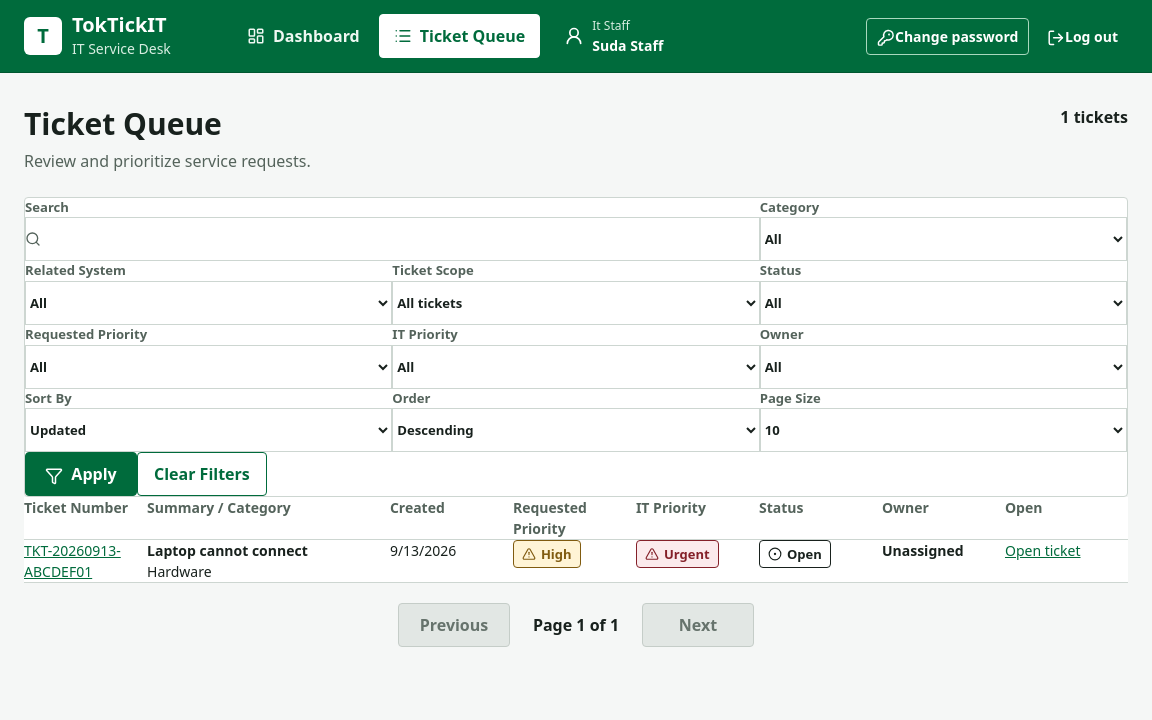
Test: Staff Ticket Queue › renders desktop columns and opens a protected detail destination
Expected: the text "Unassigned" is shown, [882, 541, 964, 560]
Expected: the element named "Status: Open" is shown, [759, 540, 831, 568]
Click the link "Open ticket".
click(1043, 551)  # box [1005, 541, 1080, 560]
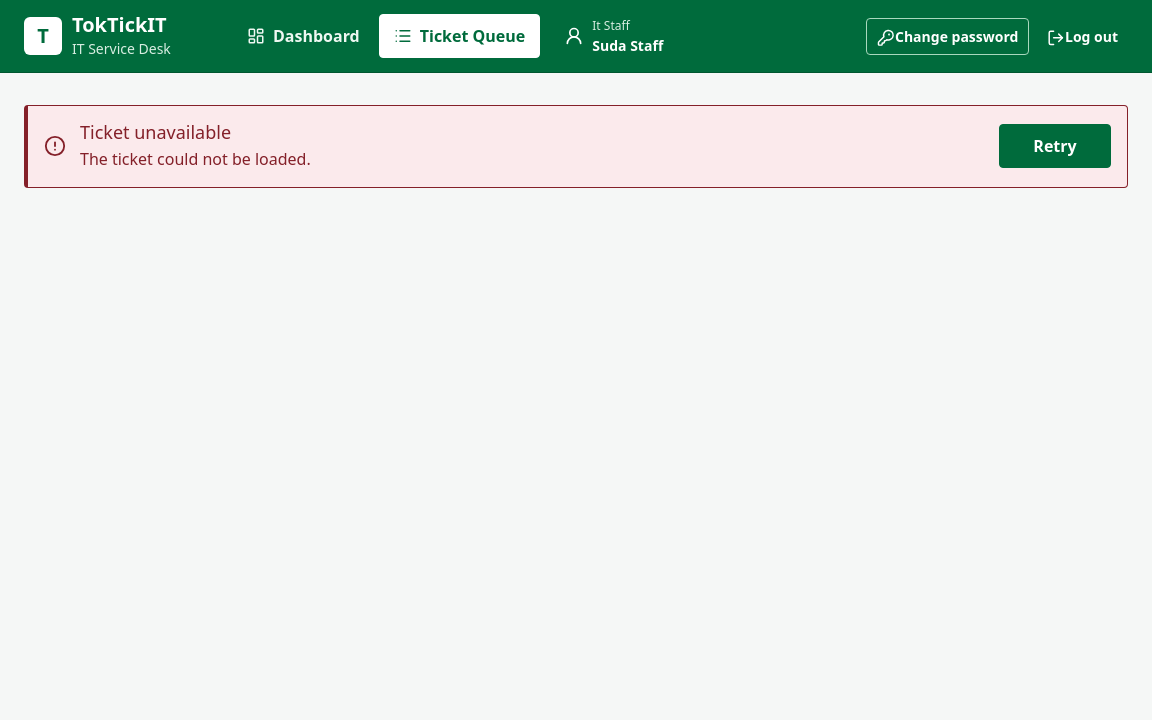
Result: the heading "Ticket unavailable" is shown at [80, 120, 231, 144]
